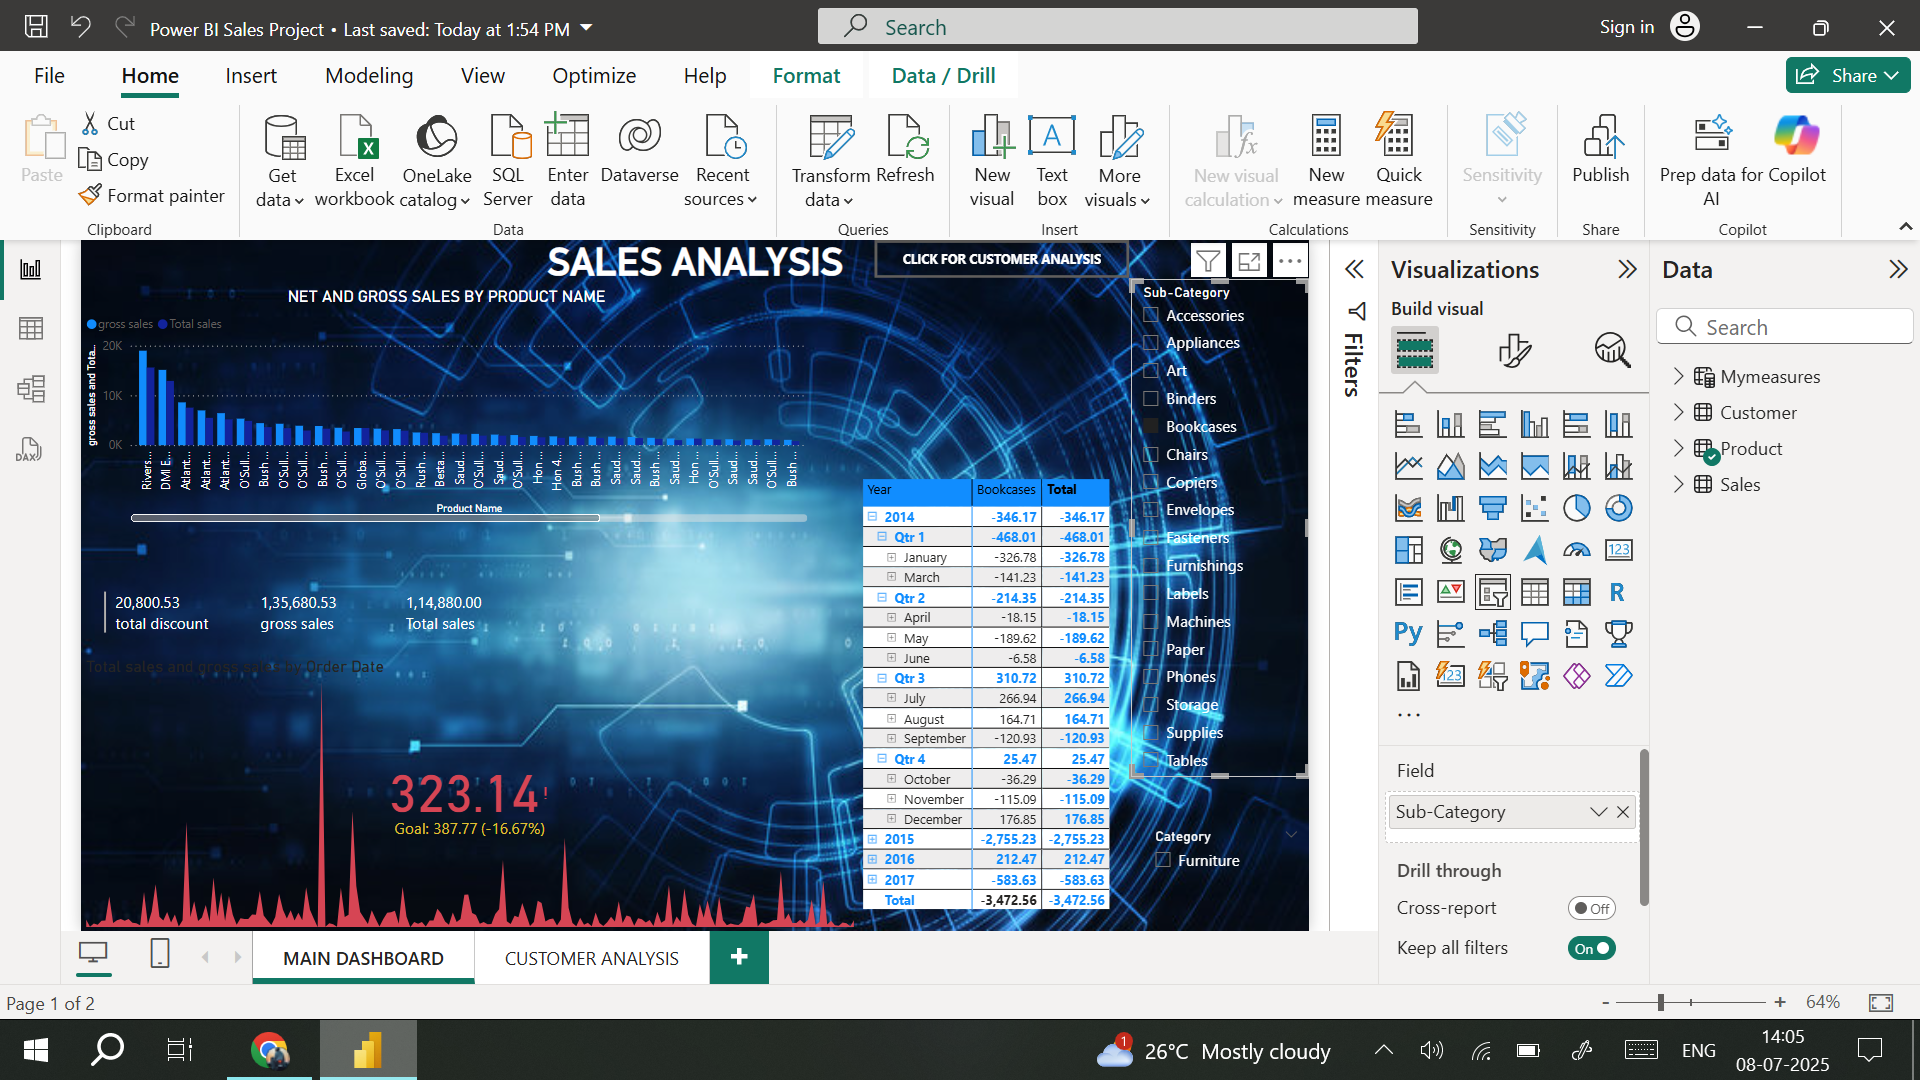

Layout of this report page (visuals, bound fields, positions):
{"tool":"powerbi","page":{"name":"MAIN DASHBOARD","canvas":[1280,720],"ordinal":1},"visuals":[{"type":"textbox","title":"SALES ANALYSIS","box":[0,0,1280,48.3],"z":0},{"type":"clusteredColumnChart","title":"NET AND GROSS SALES BY PRODUCT NAME","fields":{"Y":["Mymeasures.gross sales","Mymeasures.Total sales"],"Category":["Product.Product Name"]},"box":[0,48.3,761.7,250],"z":1000},{"type":"slicer","fields":{"Values":["Product.Sub-Category"]},"box":[1093.3,40,186.7,520],"z":2000},{"type":"slicer","fields":{"Values":["Product.Category"]},"box":[1106.7,608.3,173.3,108.3],"z":3000},{"type":"multiRowCard","fields":{"Values":["Mymeasures.total discount","Mymeasures.gross sales","Mymeasures.Total sales"]},"box":[19,360.3,475.9,56.9],"z":4000},{"type":"kpi","fields":{"Indicator":["Mymeasures.Total sales"],"TrendLine":["Sales.Order Date"],"Goal":["Mymeasures.gross sales"]},"box":[0,434.5,810.3,286.2],"z":5000},{"type":"pivotTable","fields":{"Rows":["Sales.Order Date.Variation.Date Hierarchy.Year","Sales.Order Date.Variation.Date Hierarchy.Quarter","Sales.Order Date.Variation.Date Hierarchy.Month","Sales.Order Date.Variation.Date Hierarchy.Day"],"Columns":["Product.Sub-Category"],"Values":["Customer.m_profit"]},"box":[810.3,243.1,301.7,477.6],"z":6000},{"type":"actionButton","box":[827.6,0,265.5,39.7],"z":7000}]}

Visuals, with their boxes on the page's 1280x720 design canvas (x1, y1, x2, y2). These are canvas units, not pixel positions in the 1920x1080 screenshot, which may show the page scaled, cropped or inside an application window:
"SALES ANALYSIS" textbox: x1=0 y1=0 x2=1280 y2=48
"NET AND GROSS SALES BY PRODUCT NAME" clusteredColumnChart: x1=0 y1=48 x2=762 y2=298
slicer - Product.Sub-Category: x1=1093 y1=40 x2=1280 y2=560
slicer - Product.Category: x1=1107 y1=608 x2=1280 y2=717
multiRowCard - Mymeasures.total discount x Mymeasures.gross sales: x1=19 y1=360 x2=495 y2=417
kpi - Mymeasures.Total sales x Sales.Order Date: x1=0 y1=434 x2=810 y2=721
pivotTable - Sales.Order Date.Variation.Date Hierarchy.Year x Sales.Order Date.Variation.Date Hierarchy.Quarter: x1=810 y1=243 x2=1112 y2=721
actionButton: x1=828 y1=0 x2=1093 y2=40
